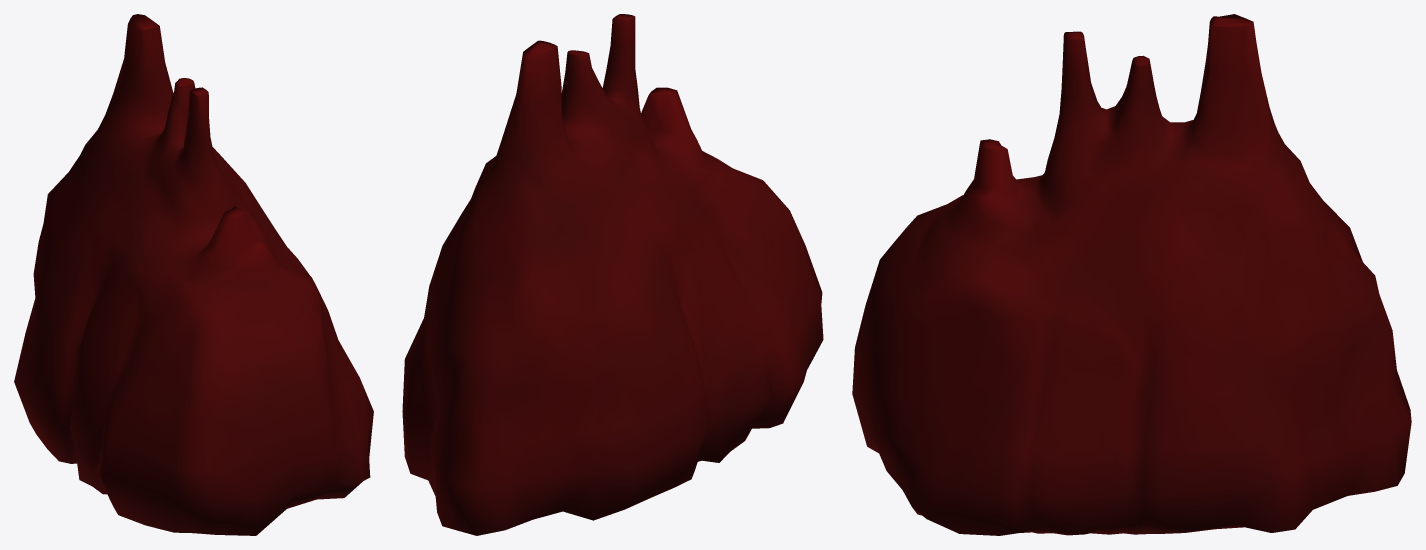
The model's file is geology-landforms-rockcanyonhuge_v5.fbx.
3 views of the same model, side by side, from view 1: azimuth 30°, elevation 25°; view 2: azimuth 150°, elevation 25°; view 3: azimuth 270°, elevation 25° (orthographic). The views are drawn at different scales.
Visible parts, largest first — view 1: RockCanyonHuge_v5; view 2: RockCanyonHuge_v5; view 3: RockCanyonHuge_v5.
Part boxes in pixels (x1=…): RockCanyonHuge_v5: x1=14, y1=14, x2=373, y2=535; RockCanyonHuge_v5: x1=402, y1=14, x2=823, y2=535; RockCanyonHuge_v5: x1=852, y1=14, x2=1411, y2=535.
Size of the model in its own units: 37.86 by 51.94 by 57.64.
